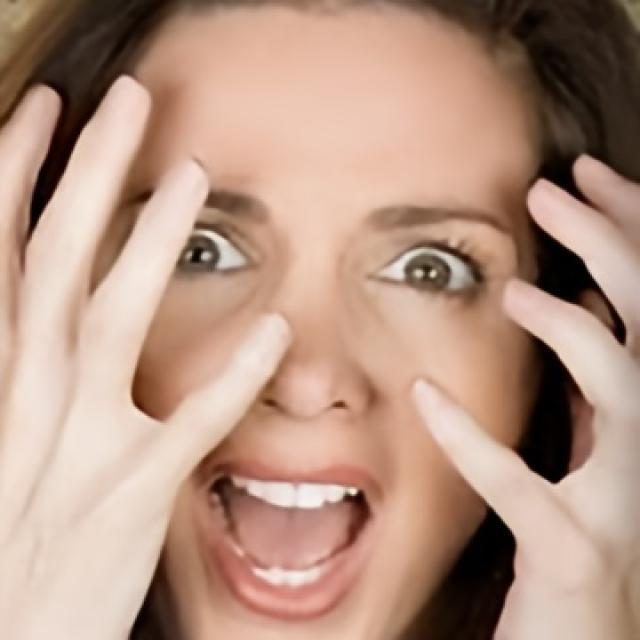fear: (115, 0, 548, 639)
